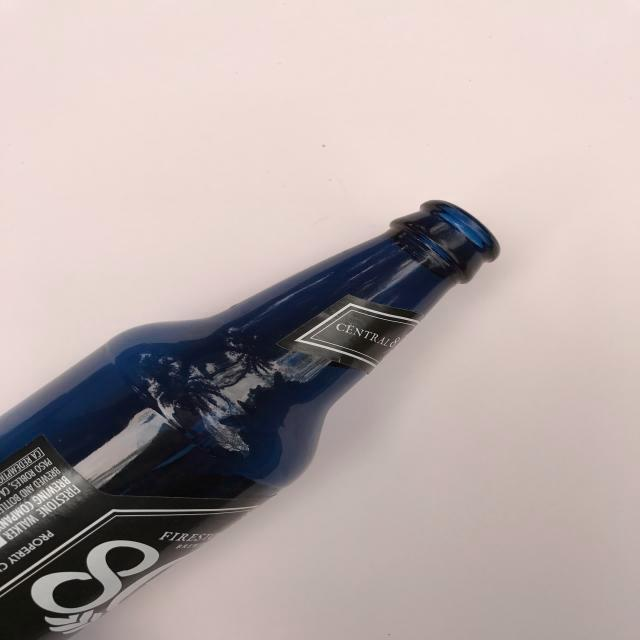glass: (0, 183, 526, 640)
